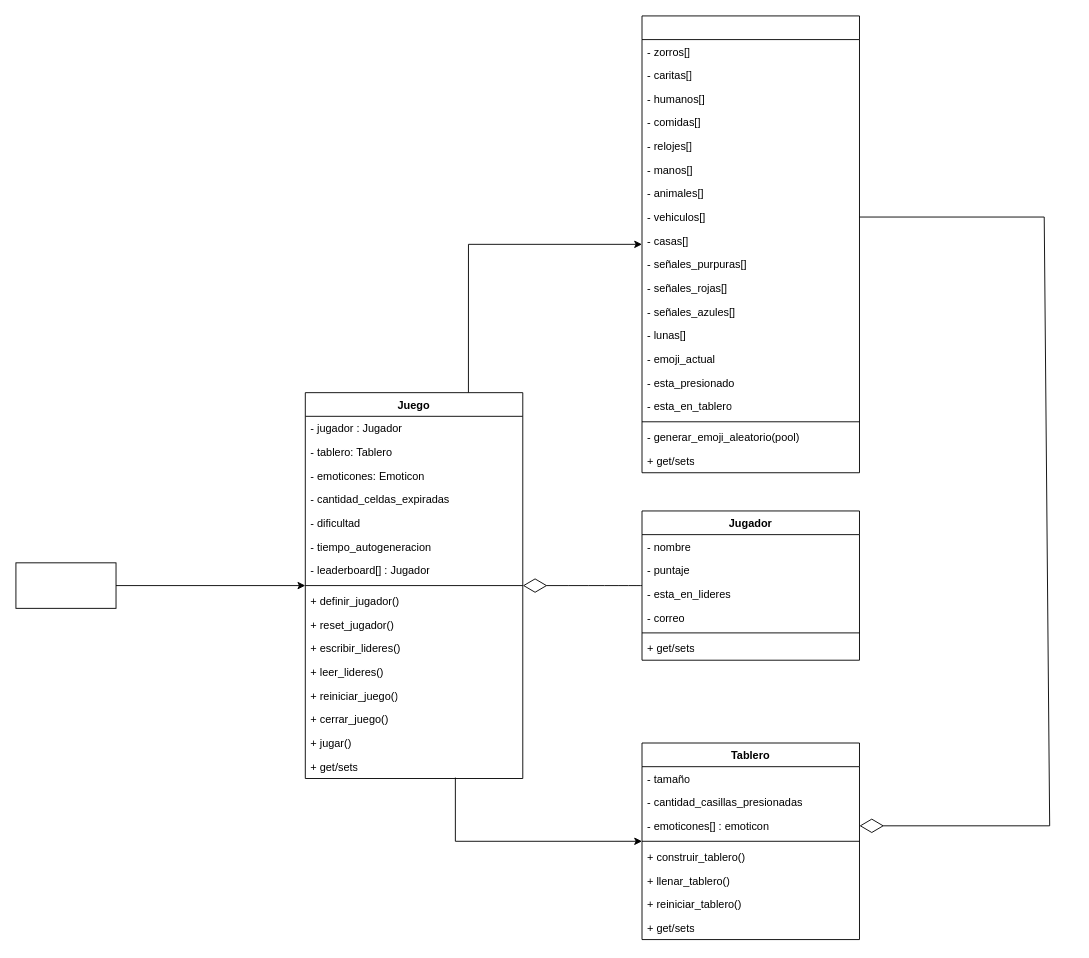
Some shapes in this 1089 by 958 pixel diagram are drawn without their labels. Here are the shapes that lost their labels. From the top down, the box of each, then its label:
(641, 15, 859, 473): Emoticon
(15, 562, 116, 608): Main
